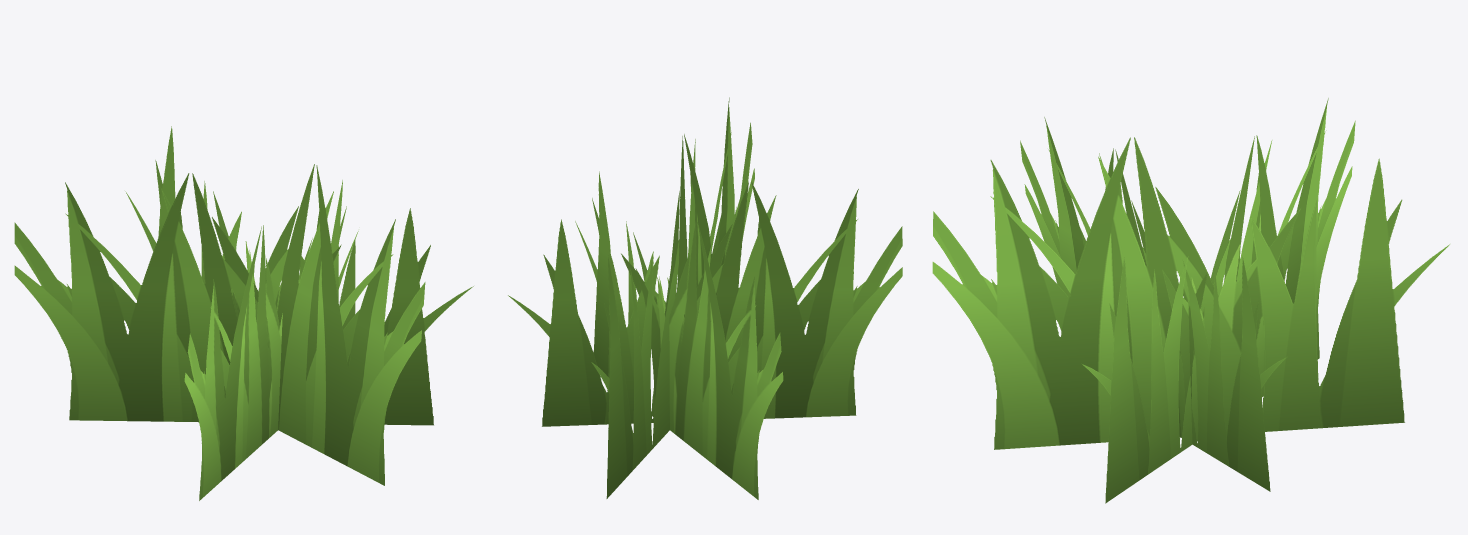
File: grass_3_mid.glb
The picture shows the model from 3 angles, left to right: view 1: azimuth 30°, elevation 25°; view 2: azimuth 150°, elevation 25°; view 3: azimuth 270°, elevation 25°; orthographic projection. The views are drawn at different scales.
Parts seen in each view (by area): view 1: grass_3_mid; view 2: grass_3_mid; view 3: grass_3_mid.
Boxes of the visible parts, x1,y1,x2,y2 form: grass_3_mid: [14, 126, 473, 500]; grass_3_mid: [508, 97, 902, 499]; grass_3_mid: [932, 98, 1449, 503].
Bounding box in the file's own units: 0.4868 × 0.4482 × 0.5752.
1 material, 1 textured.
